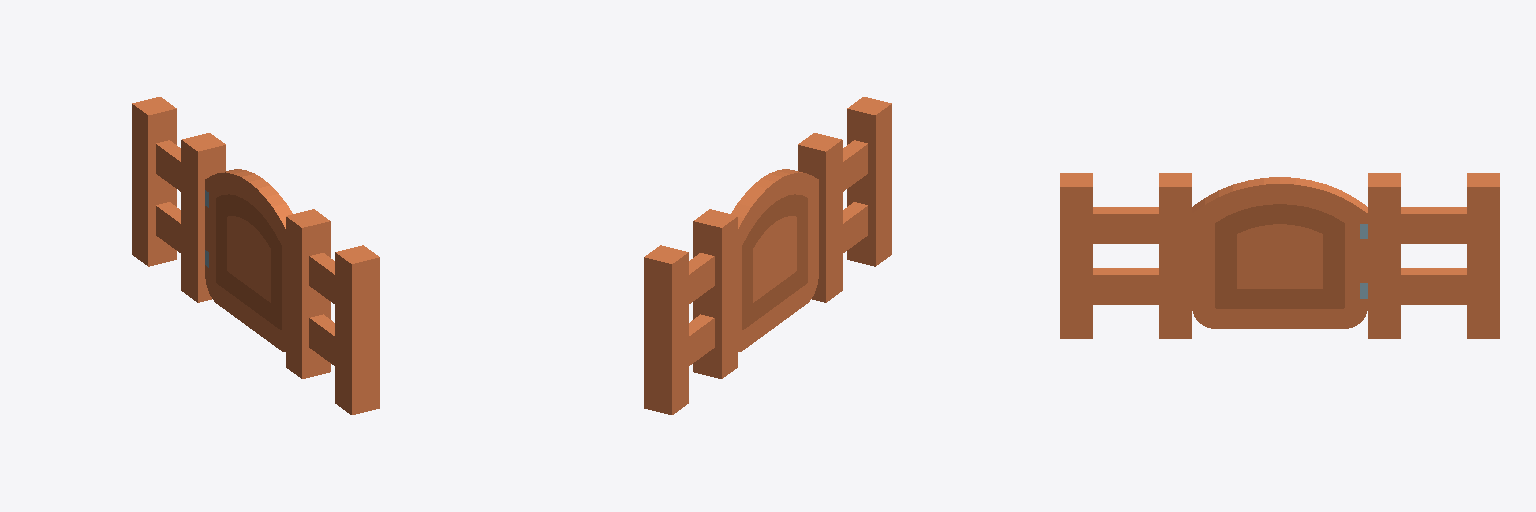
The model's file is fenceGate.obj.
3 renders of one model, left to right at view 1: azimuth 30°, elevation 25°; view 2: azimuth 150°, elevation 25°; view 3: azimuth 270°, elevation 25°, orthographic.
Parts seen in each view (by area): view 1: fenceGate, gate; view 2: fenceGate, gate; view 3: fenceGate, gate.
Boxes of the visible parts, x1,y1,x2,y2 form: fenceGate: [132, 97, 379, 414]; gate: [205, 169, 292, 351]; fenceGate: [644, 97, 891, 414]; gate: [731, 169, 818, 351]; fenceGate: [1060, 173, 1499, 338]; gate: [1192, 177, 1367, 328].
Size of the model in its own units: 0.075 by 0.38 by 1.